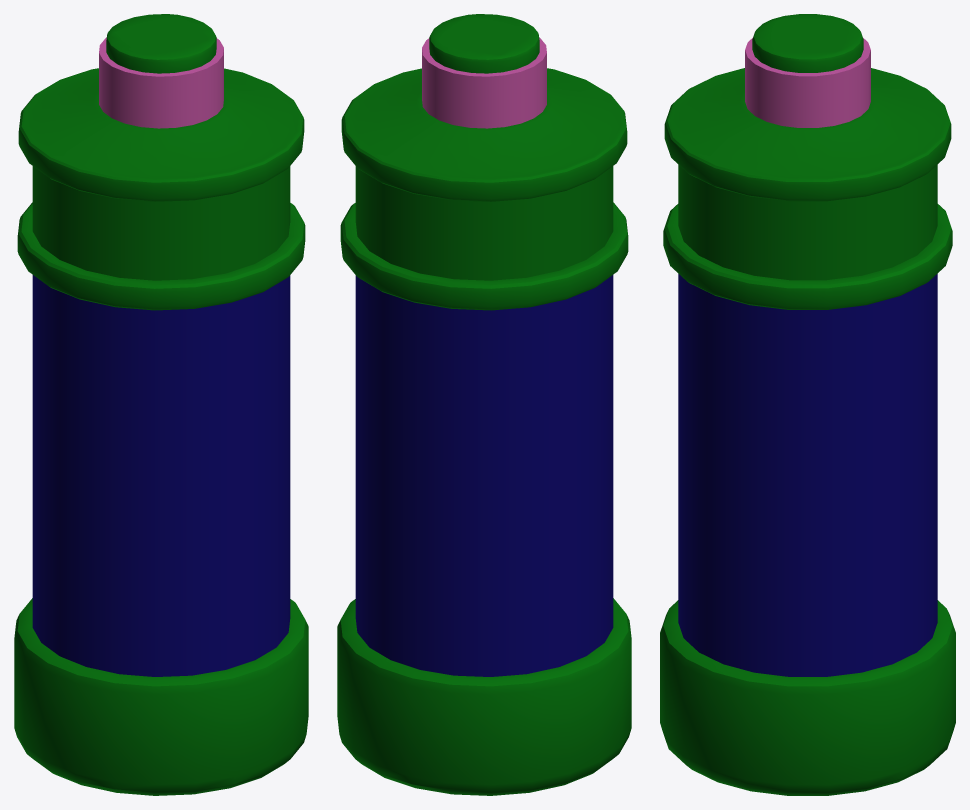
Rendered from SoapBottle.fbx.
3 renders of one model, left to right at view 1: azimuth 30°, elevation 25°; view 2: azimuth 150°, elevation 25°; view 3: azimuth 270°, elevation 25°, orthographic.
Parts seen in each view (by area): view 1: Soap bubble bottle; view 2: Soap bubble bottle; view 3: Soap bubble bottle.
Boxes of the visible parts, x1,y1,x2,y2 form: Soap bubble bottle: (14, 14, 308, 795); Soap bubble bottle: (337, 14, 631, 795); Soap bubble bottle: (660, 14, 955, 795).
Size of the model in its own units: 0.4385 by 1.16 by 0.443.
